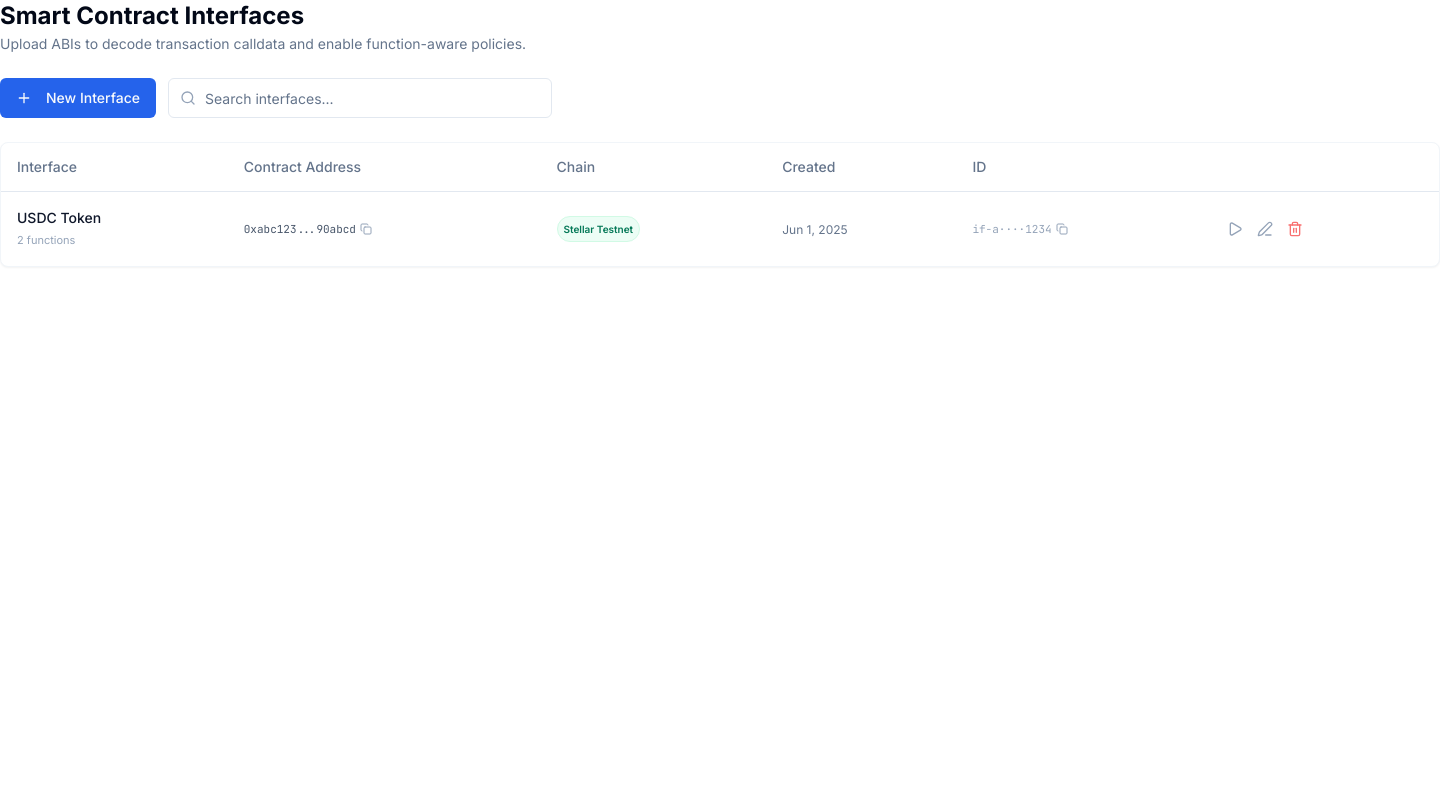
Test: Contract Interfaces Page › Decode modal › decodes transaction and shows result
Expected: the text "USDC Token" is shown, [17,208,101,226]
Click the 4th button at (1235, 228), box [1221,214,1249,242]
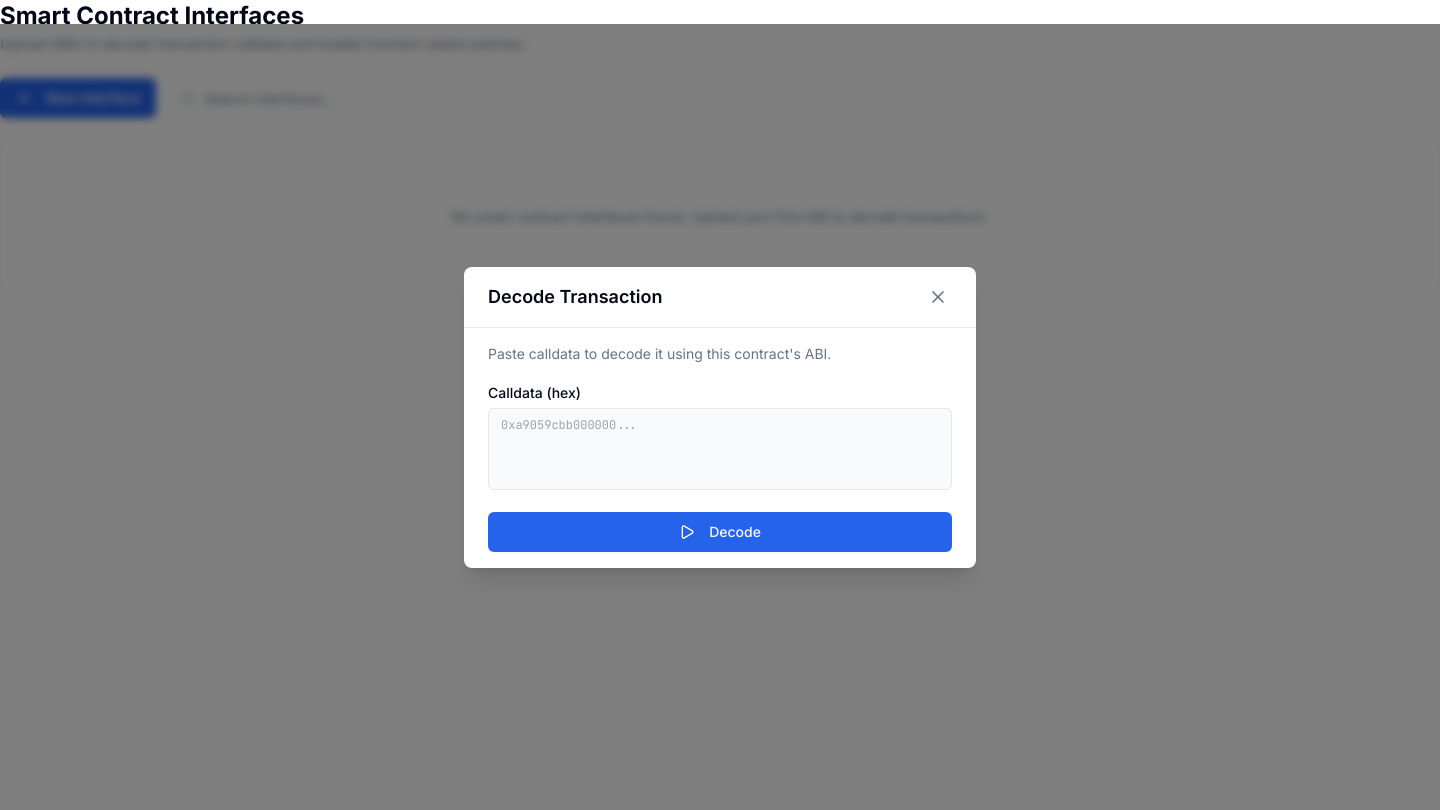
Expected: the heading "Decode Transaction" is shown, [488,282,662,310]
Type "0xa9059cbb000000" into the text box with placeholder "0xa9059cbb000000..." at (720, 448), box [488,408,952,490]
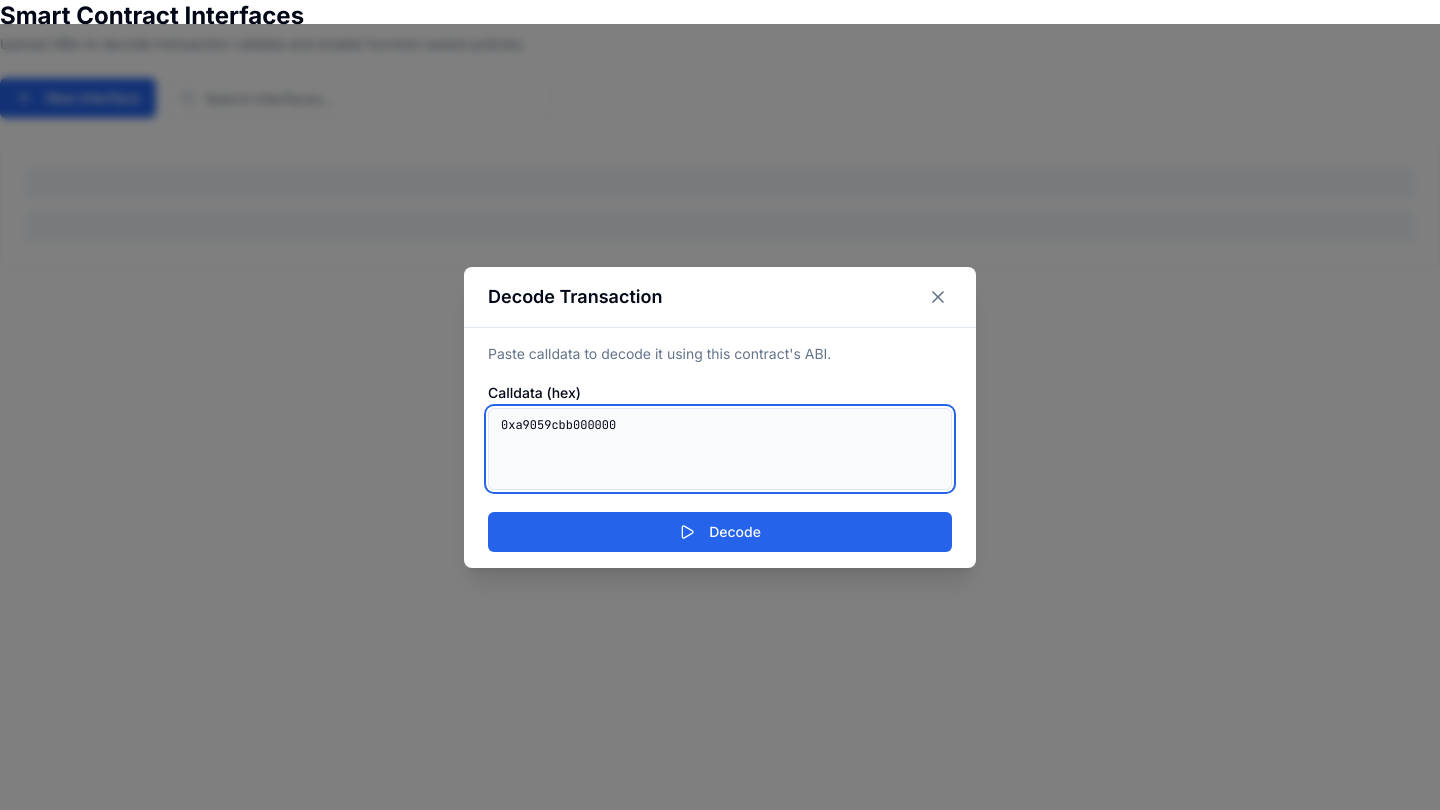
Click the button "Decode" at (720, 532), box [488,512,952,552]
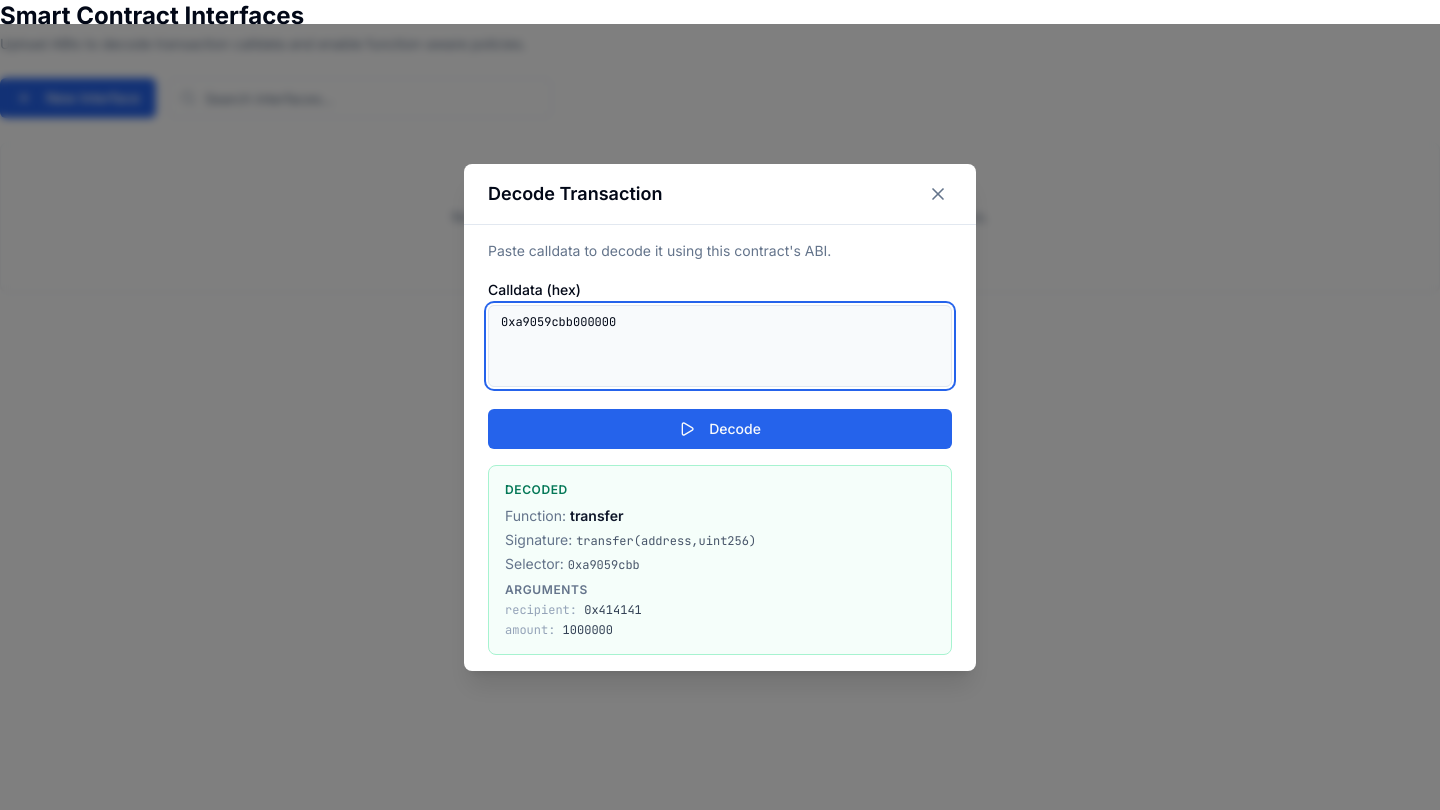
Expected: the text "transfer" is shown, [570,506,624,524]
Expected: the text "transfer(address,uint256)" is shown, [576,532,756,548]
Expected: the text "0xa9059cbb" is shown, [568,556,640,572]
